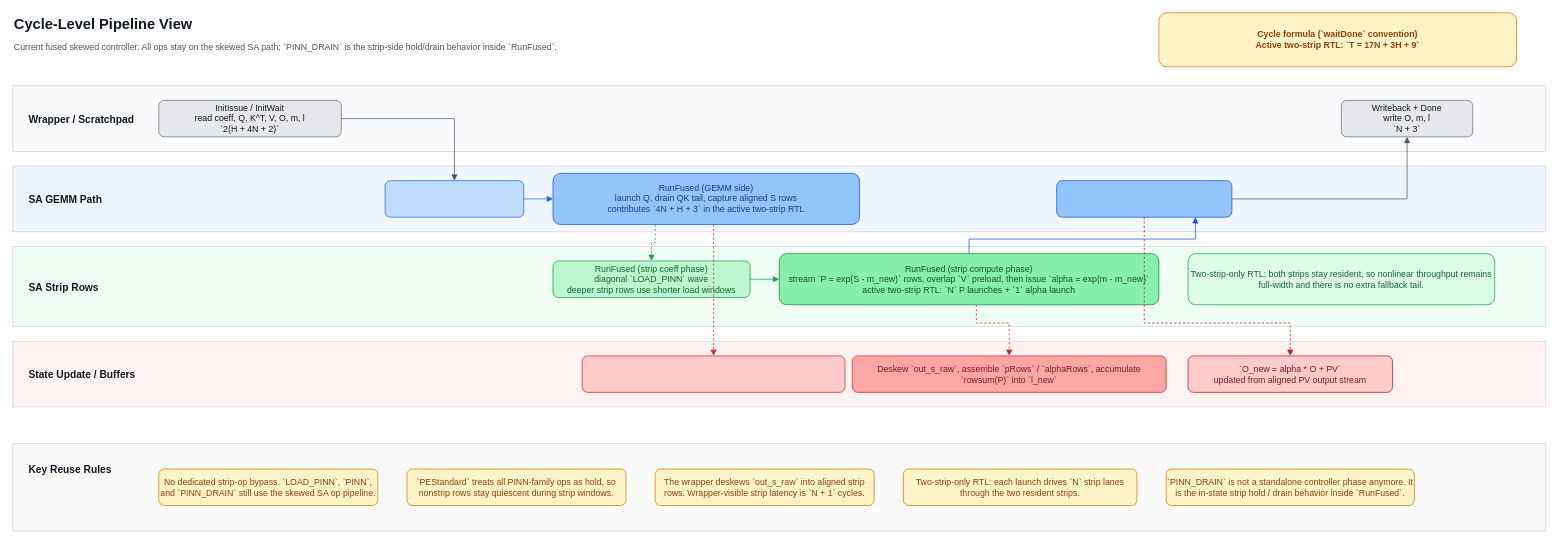
The diagram is 1559 pixels wide and 544 high, and some of its shapes have lost their labels. Each missing label, with the centre of its shape:
"Capture aligned S rows, compute `rowmax(S)`, update `m_new`, buffer `sRows`" goes at pixel 713 373.
"PreloadKt classical `LOAD_WEIGHT` preload of K^T `N`" goes at pixel 454 198.
"RunPV stream ready P rows through resident V weights `3N - 1`" goes at pixel 1144 198.
